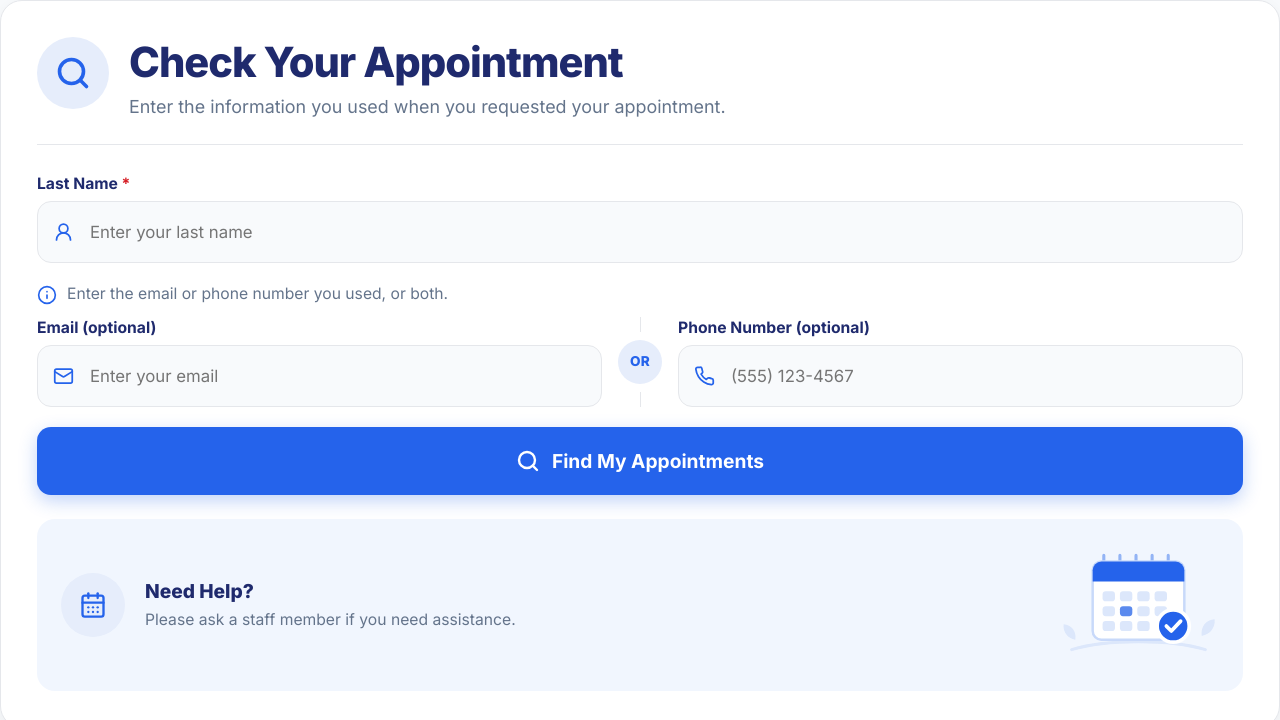
Scenario: AppointmentLookup › shows the no-match state when the lookup returns nothing
Type "Pierre" into the field labelled "Last Name *".
click(640, 232); type("Pierre")  # box [37,201,1243,263]
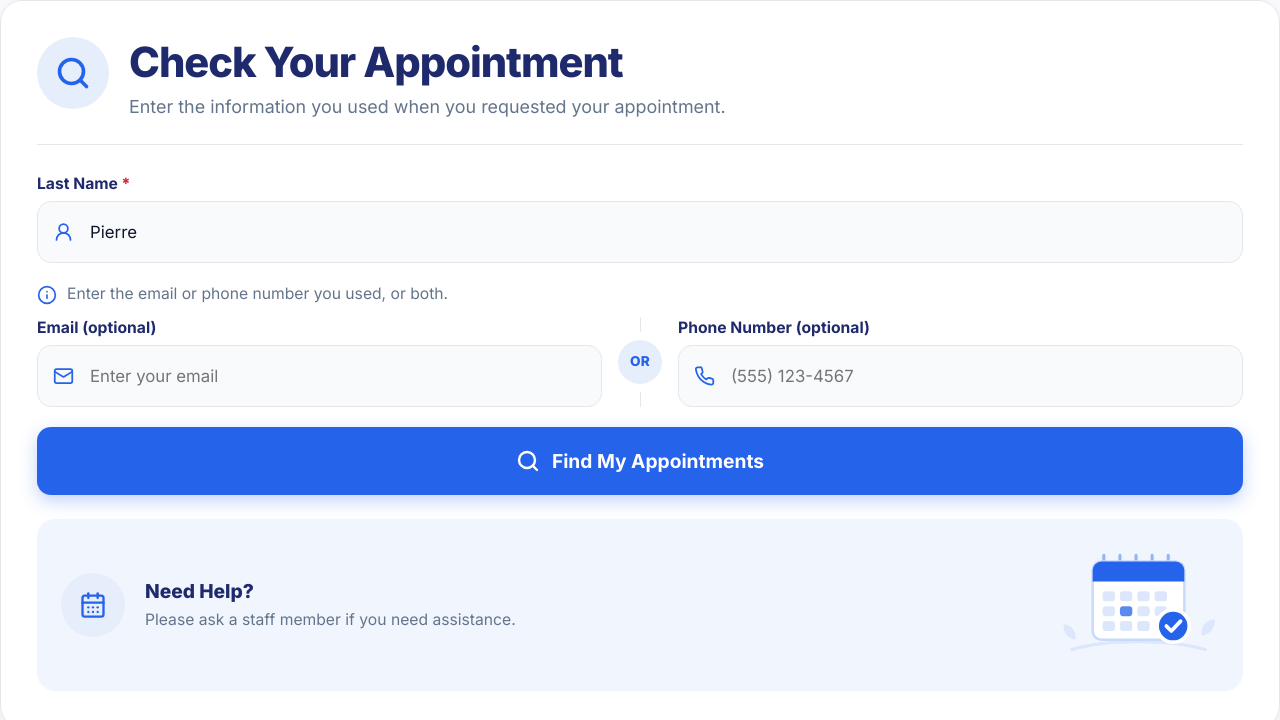
Type "pierre@example.com" into the field labelled "Email (optional)".
click(320, 376); type("pierre@example.com")  # box [37,344,602,406]
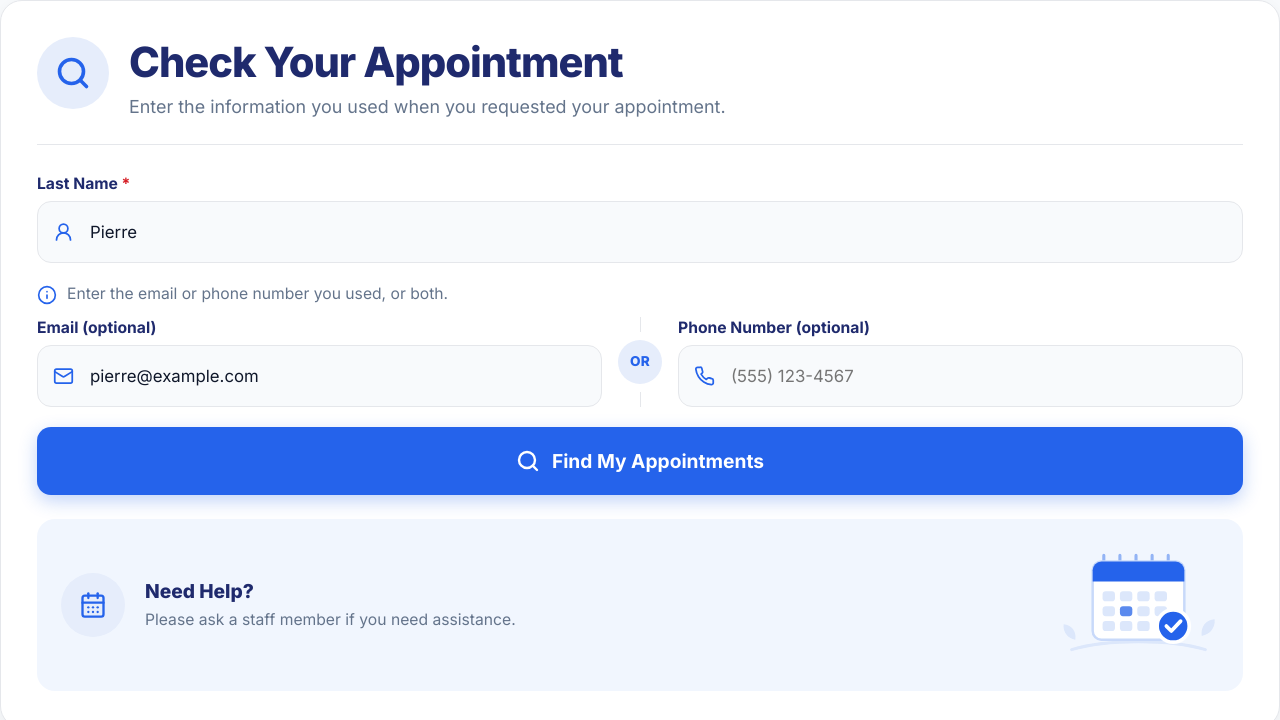
Click the button "Find My Appointments".
click(640, 460)  # box [37,426,1243,494]
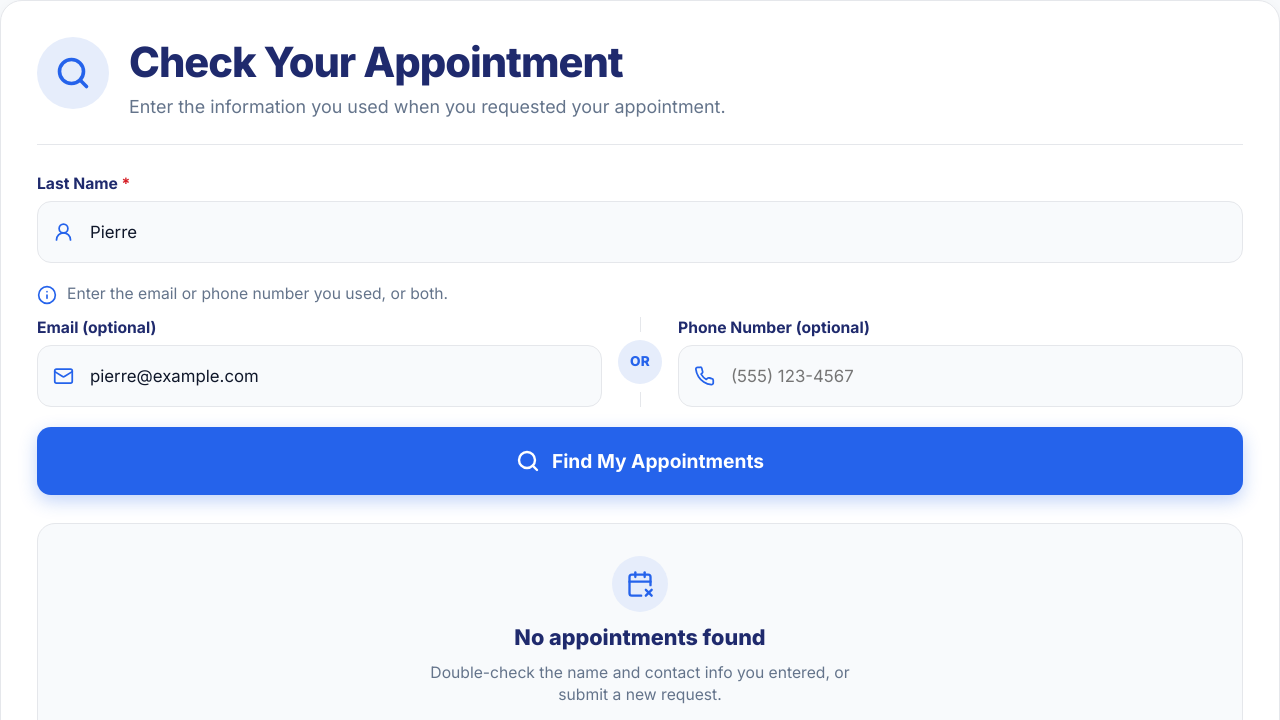
Check: the heading "No appointments found" is shown, box [514,624,766,650]
